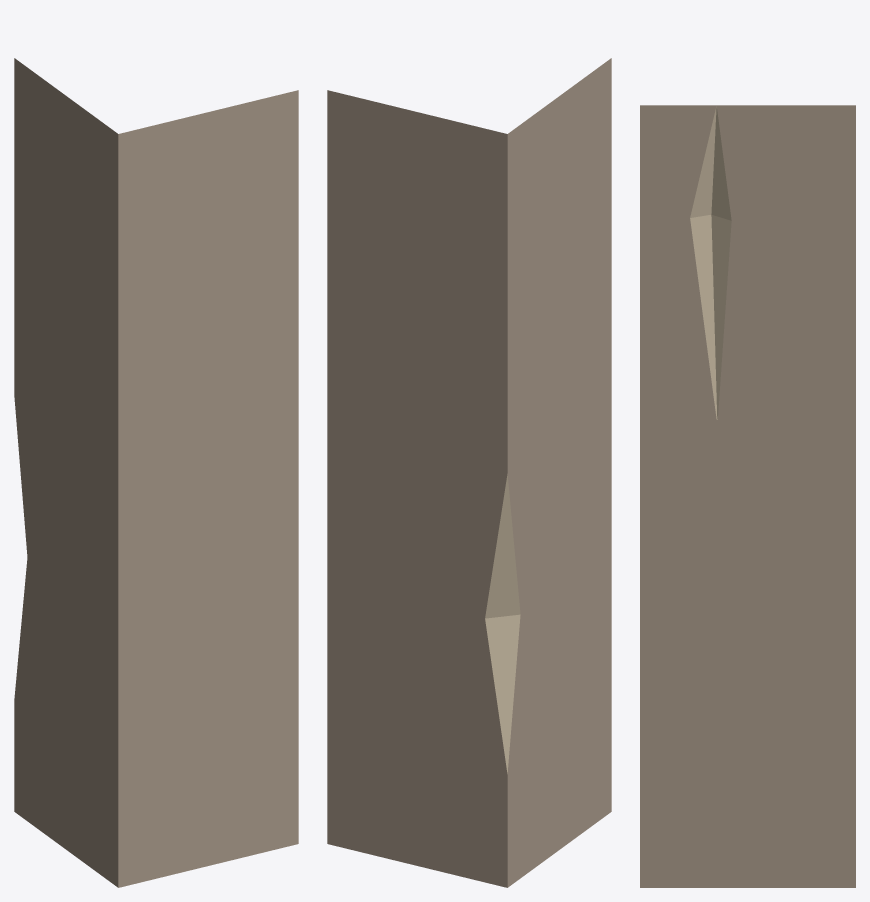
Rendered from Cave_Prop_Support_Wall_Pillar_3.glb.
3 views of the same model, side by side, from view 1: azimuth 30°, elevation 25°; view 2: azimuth 150°, elevation 25°; view 3: azimuth 270°, elevation 25° (orthographic). The views are drawn at different scales.
Parts seen in each view (by area): view 1: Cave_Prop_Support_Wall_Pillar_3; view 2: Cave_Prop_Support_Wall_Pillar_3; view 3: Cave_Prop_Support_Wall_Pillar_3.
Part boxes in pixels (x1,y1,x2,y2): Cave_Prop_Support_Wall_Pillar_3: (14, 58, 298, 887); Cave_Prop_Support_Wall_Pillar_3: (327, 58, 611, 887); Cave_Prop_Support_Wall_Pillar_3: (640, 105, 855, 887).
Size of the model in its own units: 0.25 by 1 by 0.25.
